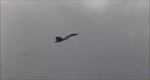maybay_muctieu: (54, 32, 78, 44)
